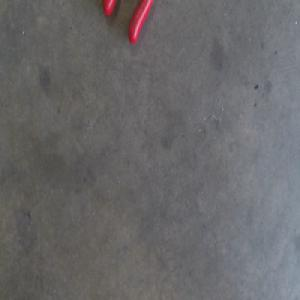Pliers: (101, 0, 153, 44)
